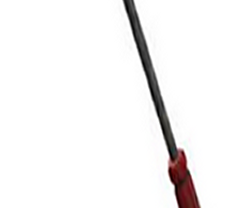screwdriver: (118, 1, 225, 208)
